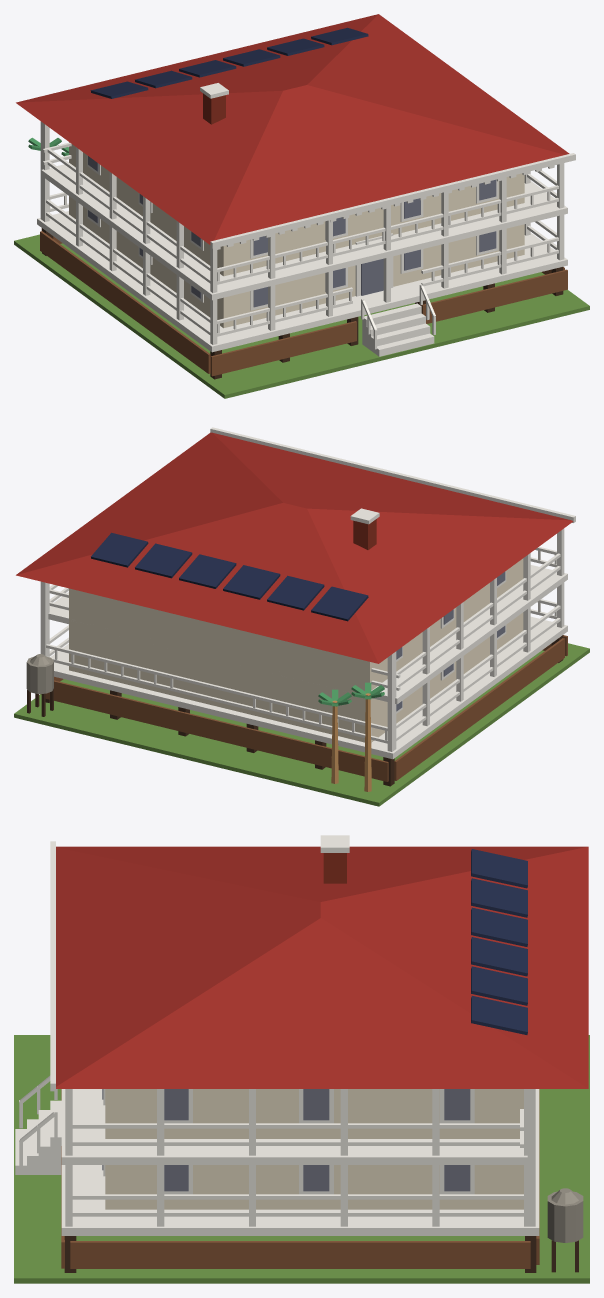
The model's file is house-2x2-2f-queenslander-a-solar.glb.
3 views of the same model, one above another, from view 1: azimuth 30°, elevation 25°; view 2: azimuth 150°, elevation 25°; view 3: azimuth 270°, elevation 25° (orthographic). The views are drawn at different scales.
Parts seen in each view (by area): view 1: house-2x2-2f-queenslander-a-solar; view 2: house-2x2-2f-queenslander-a-solar; view 3: house-2x2-2f-queenslander-a-solar.
Boxes of the visible parts, left/top/right/bottom form: house-2x2-2f-queenslander-a-solar: left=14, top=14, right=589, bottom=398; house-2x2-2f-queenslander-a-solar: left=14, top=427, right=589, bottom=806; house-2x2-2f-queenslander-a-solar: left=14, top=835, right=589, bottom=1283.
Size of the model in its own units: 1.99 by 1.03 by 1.99.
1 material, 1 textured.
